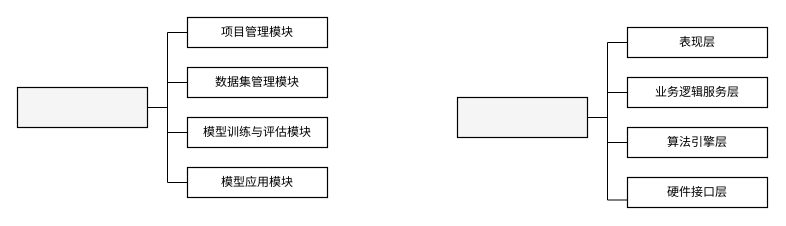
The diagram is 786 pixels wide and 226 high, and some of its shapes have lost their labels. The centre of each missing label's shape, as x and y in pixels:
"平台功能模块设计" belongs at pixel 82 107.
"系统分层架构设计" belongs at pixel 522 117.
